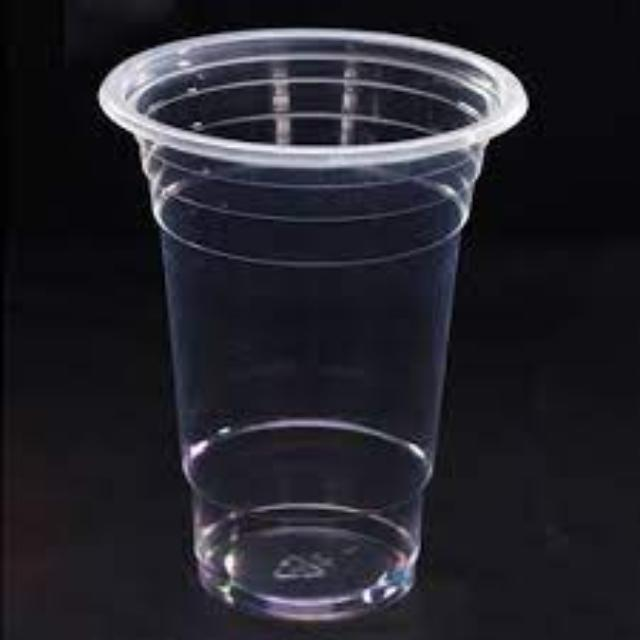Plastico descartable: (99, 29, 528, 620)
